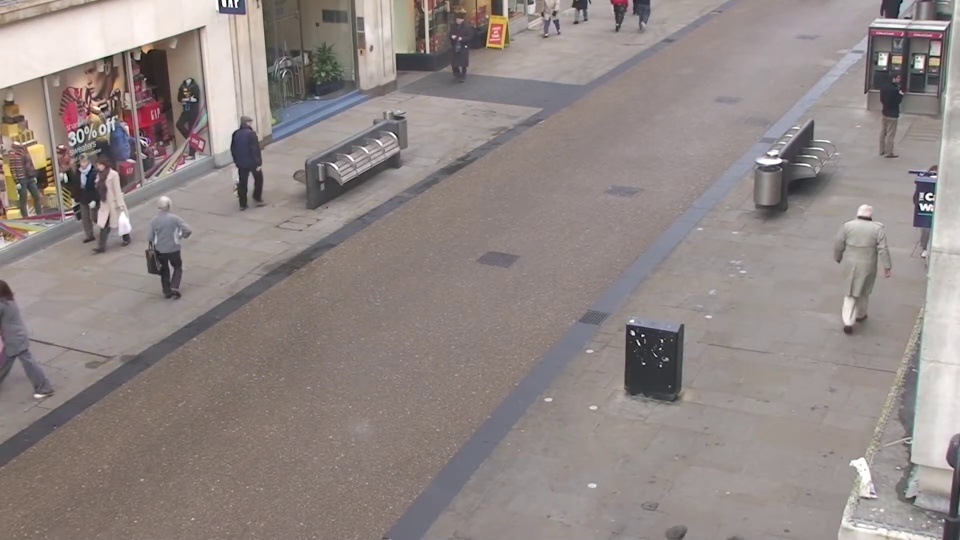pedestrian: (839, 193, 886, 310), (149, 189, 196, 302), (74, 157, 122, 261), (59, 152, 107, 255), (872, 67, 911, 154), (242, 109, 278, 202), (446, 13, 471, 80)
